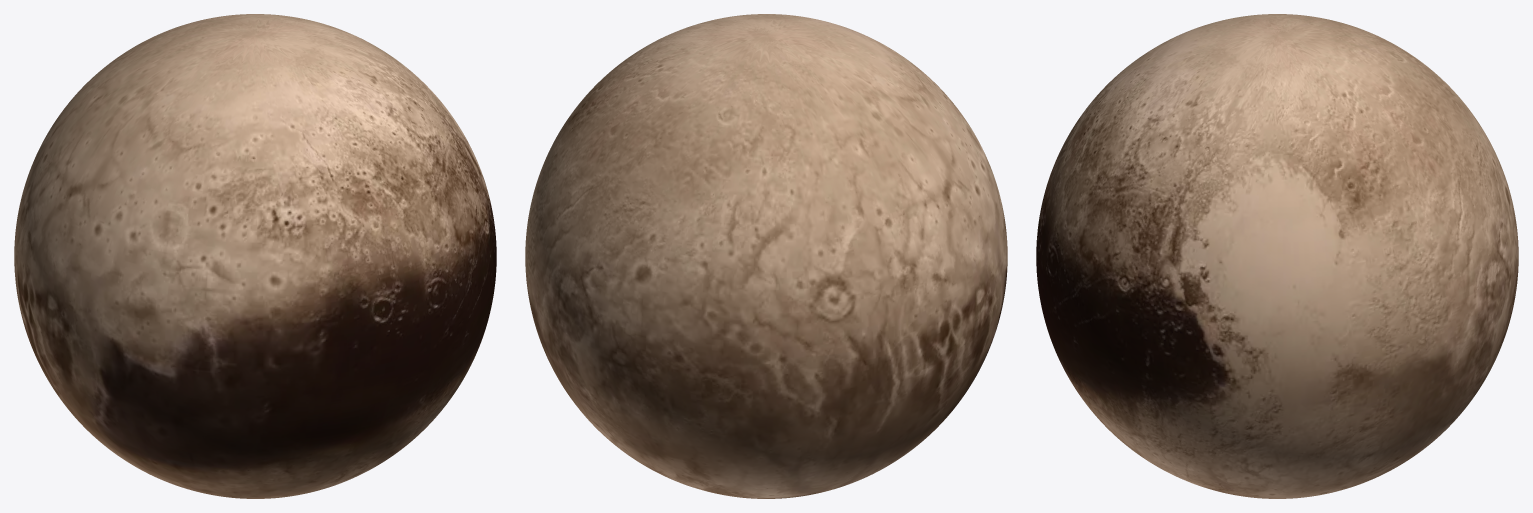
Rendered from pluto_compressed.glb.
3 renders of one model, left to right at view 1: azimuth 30°, elevation 25°; view 2: azimuth 150°, elevation 25°; view 3: azimuth 270°, elevation 25°, orthographic.
Parts seen in each view (by area): view 1: Object_4; view 2: Object_4; view 3: Object_4.
Boxes of the visible parts, x1,y1,x2,y2 form: Object_4: (14, 14, 496, 498); Object_4: (525, 14, 1007, 498); Object_4: (1036, 14, 1518, 498).
Size of the model in its own units: 2.23 by 2.25 by 2.23.
Materials: 1 (1 with a texture image).
